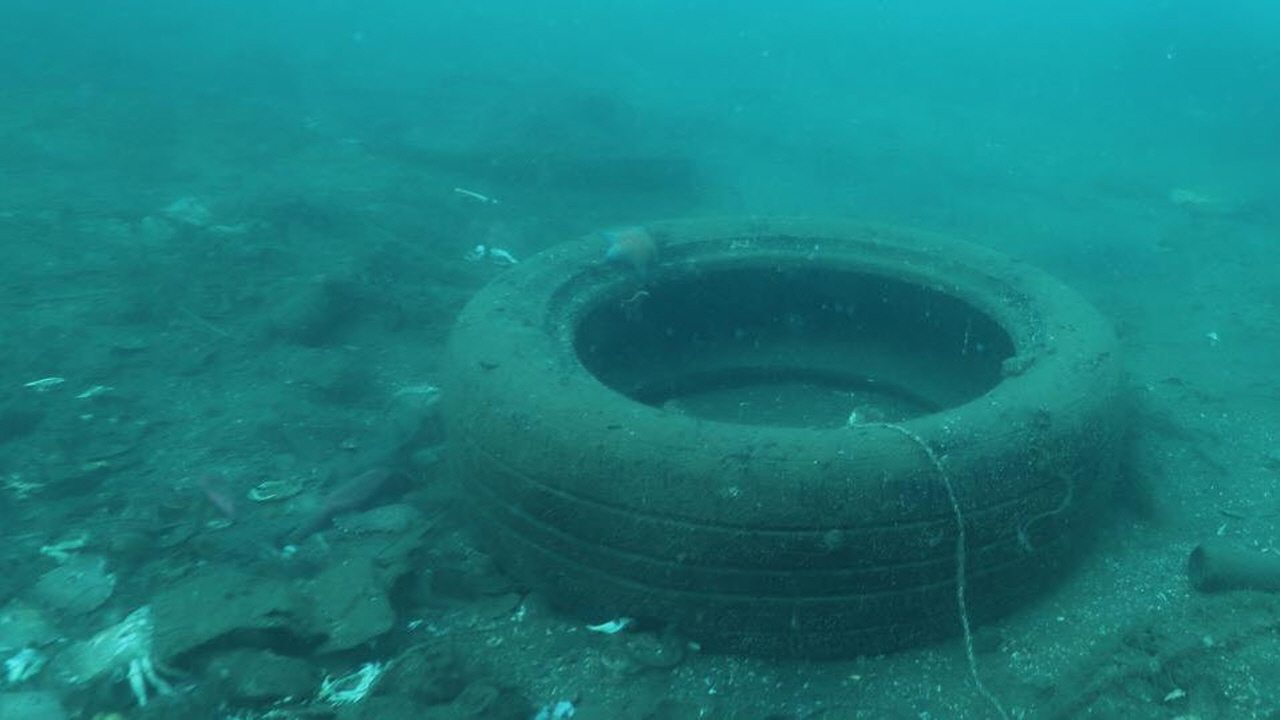tire: (440, 211, 1126, 661)
